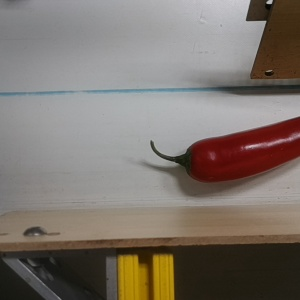Cut Point: (176, 140, 208, 183)
